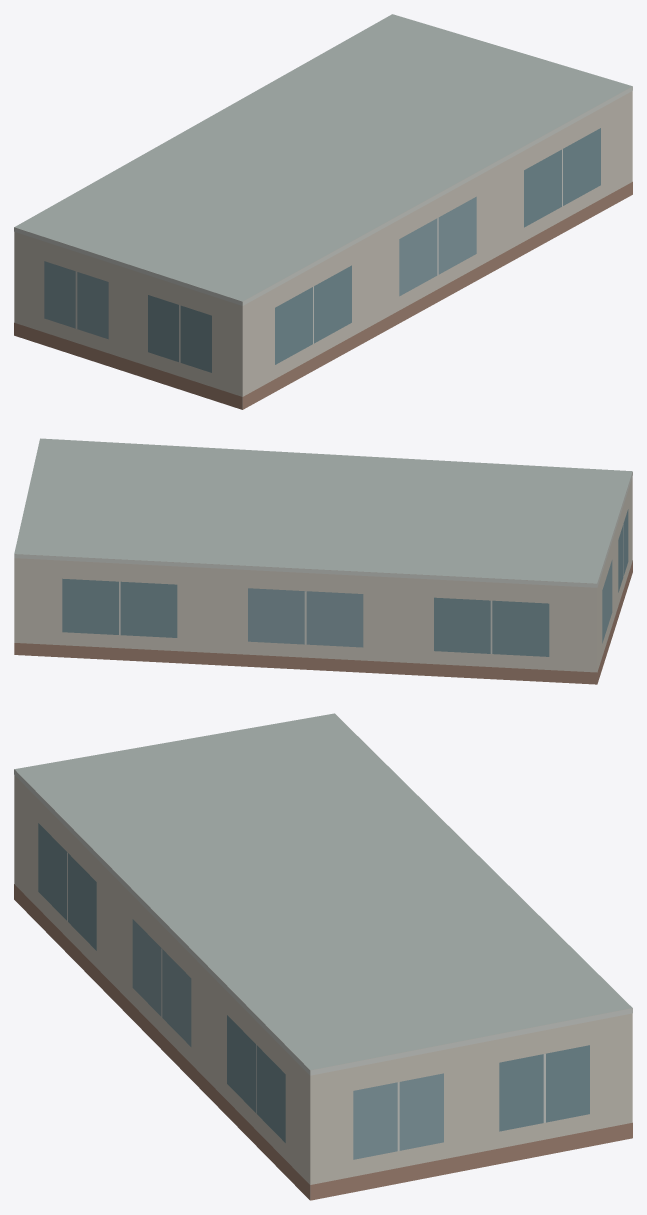
Rendered from survey-upis-32774752.glb.
3 views of the same model, one above another, from view 1: azimuth 30°, elevation 25°; view 2: azimuth 150°, elevation 25°; view 3: azimuth 270°, elevation 25° (orthographic). The views are drawn at different scales.
Visible parts, largest first — view 1: survey-upis-32774752.tmp; view 2: survey-upis-32774752.tmp; view 3: survey-upis-32774752.tmp.
Part boxes in pixels (left/top/right/bottom): survey-upis-32774752.tmp: left=14, top=14, right=632, bottom=409; survey-upis-32774752.tmp: left=14, top=438, right=632, bottom=684; survey-upis-32774752.tmp: left=14, top=713, right=632, bottom=1200.
Bounding box in the file's own units: 17.95 × 3.05 × 13.14.
